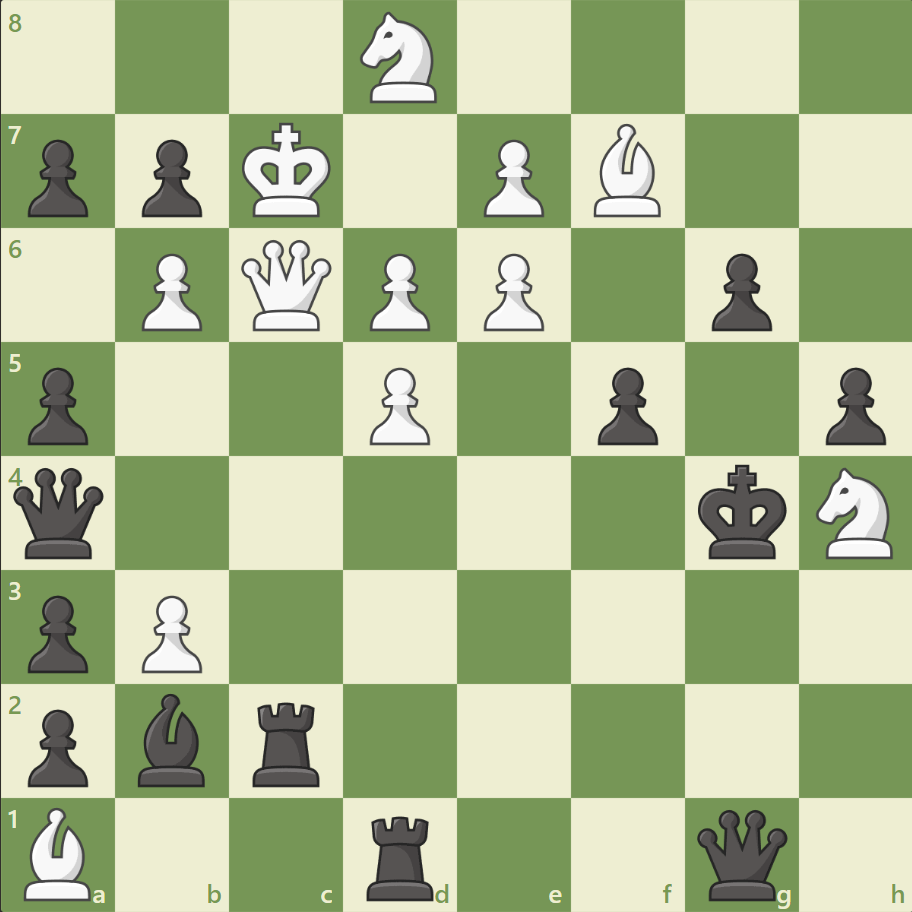B: (17, 801, 101, 904), (585, 120, 669, 222)
K: (238, 117, 338, 225)
N: (351, 7, 449, 110), (806, 461, 903, 564)
P: (474, 132, 549, 223), (133, 246, 208, 337), (474, 246, 549, 337), (133, 586, 208, 677), (361, 246, 435, 337), (361, 359, 435, 450)
Q: (237, 236, 336, 335)
b: (131, 687, 215, 790)
k: (692, 458, 792, 566)
p: (20, 132, 95, 223), (133, 132, 208, 223), (701, 246, 776, 337), (20, 359, 95, 450), (20, 586, 95, 677), (20, 700, 95, 791), (588, 359, 662, 450), (815, 359, 889, 450)
q: (10, 463, 109, 562), (691, 804, 790, 903)
r: (246, 693, 329, 790), (360, 806, 442, 904)
